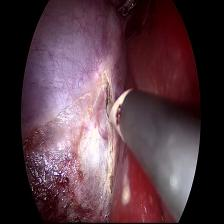Grasper: (110, 0, 142, 18)
Hook: (101, 77, 141, 143)
